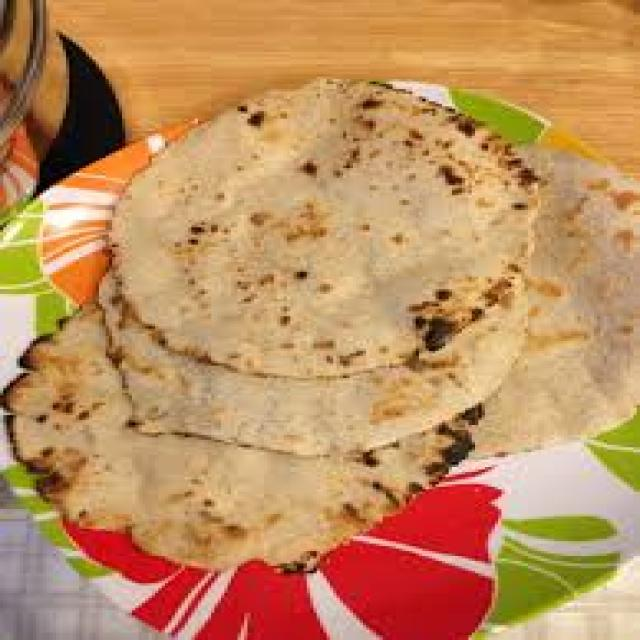RICE BHAKRI: (105, 75, 543, 375), (6, 304, 492, 574), (98, 270, 534, 461)
